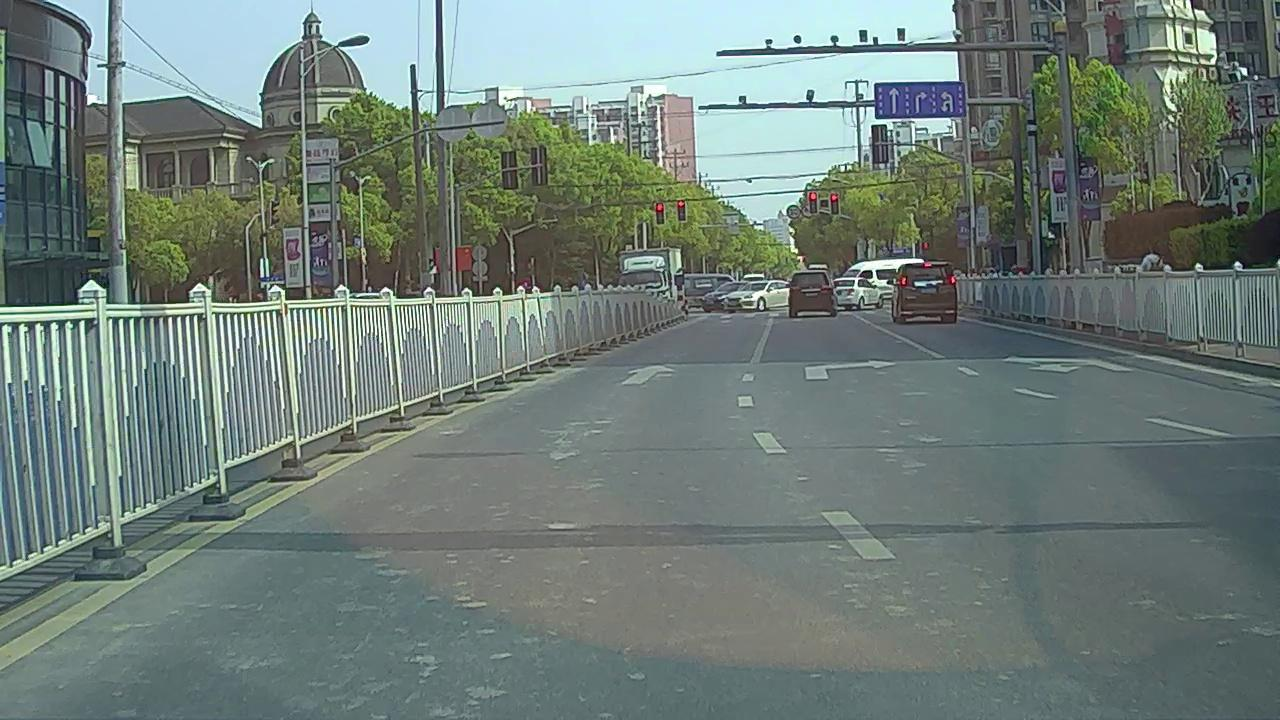traffic_light: (809, 190, 818, 215), (656, 202, 665, 224), (831, 193, 840, 215), (678, 200, 686, 222)
